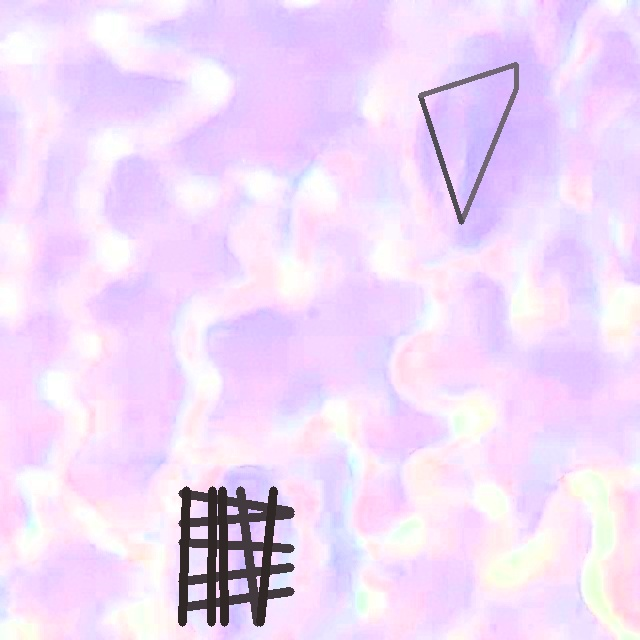open: (178, 486, 293, 626), (419, 63, 518, 224)
